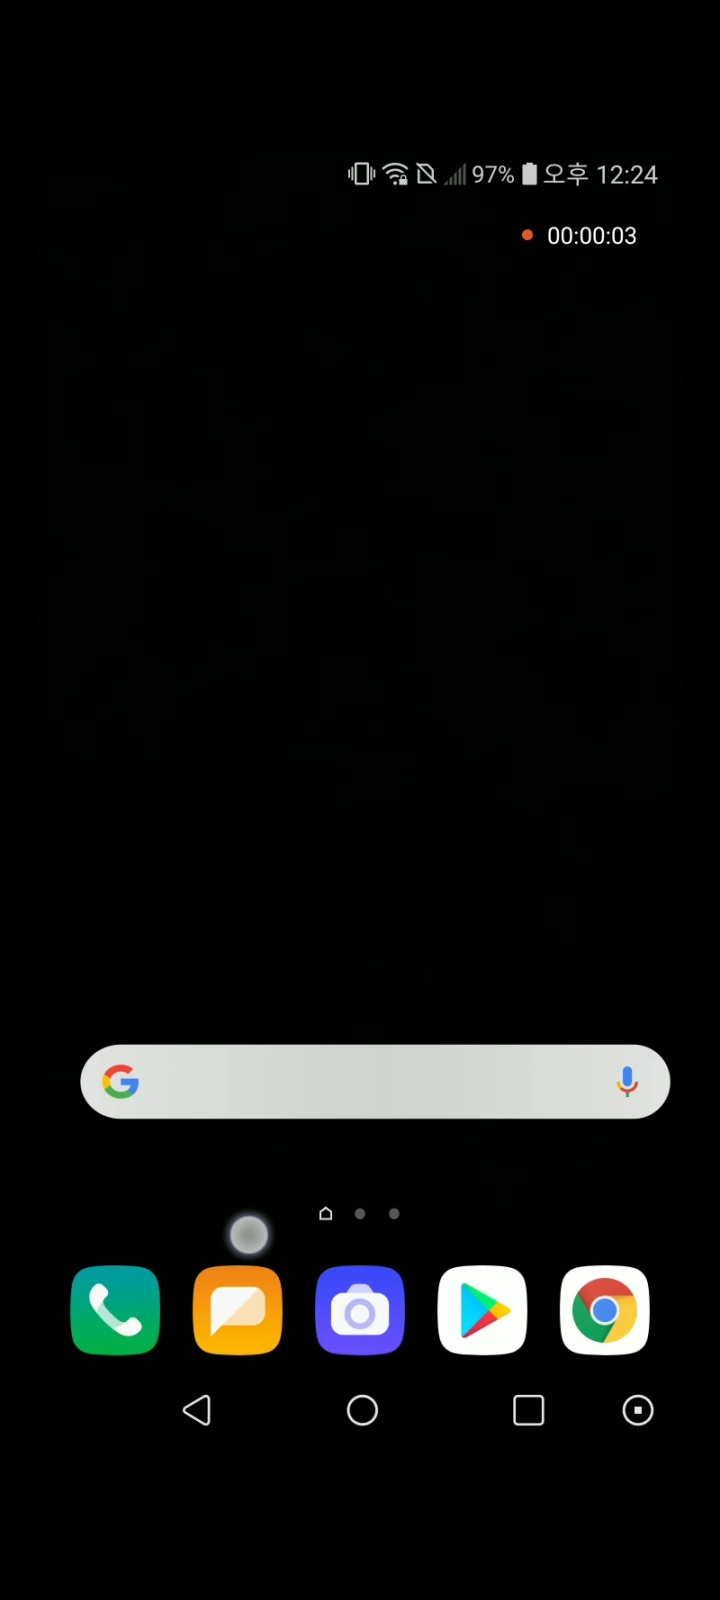Cursor: (228, 1213, 273, 1258)
